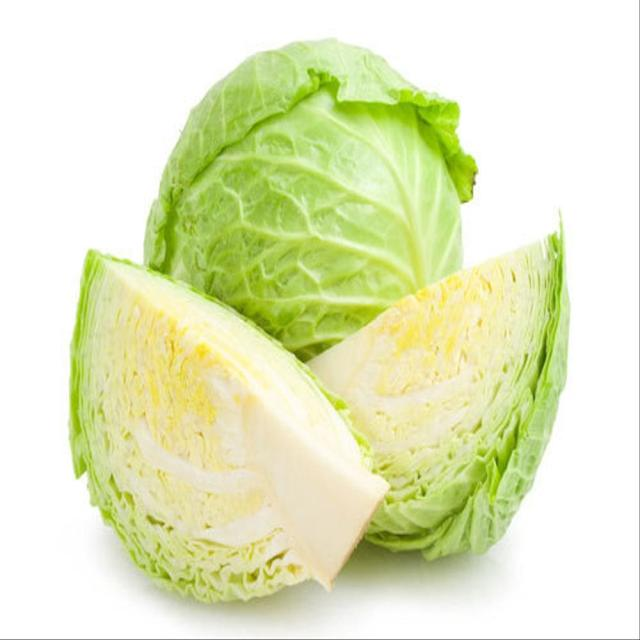Organik: (39, 219, 388, 622), (137, 38, 480, 371), (282, 217, 573, 566)
